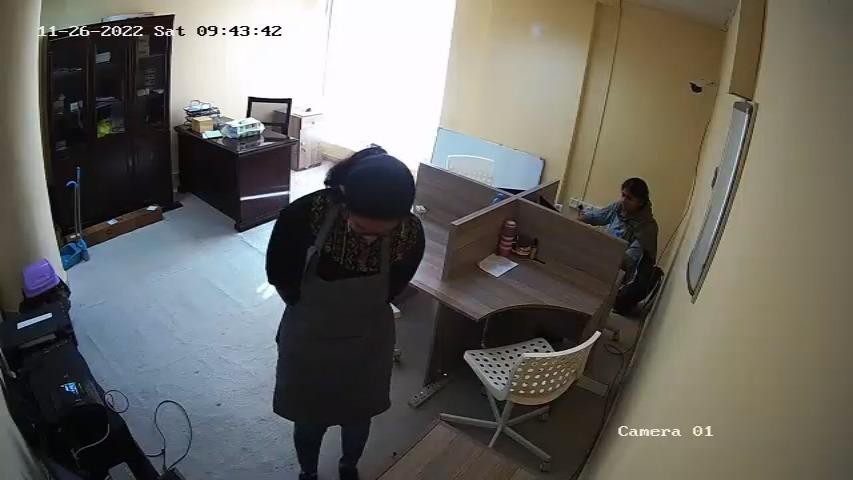apron: (295, 240, 396, 414)
